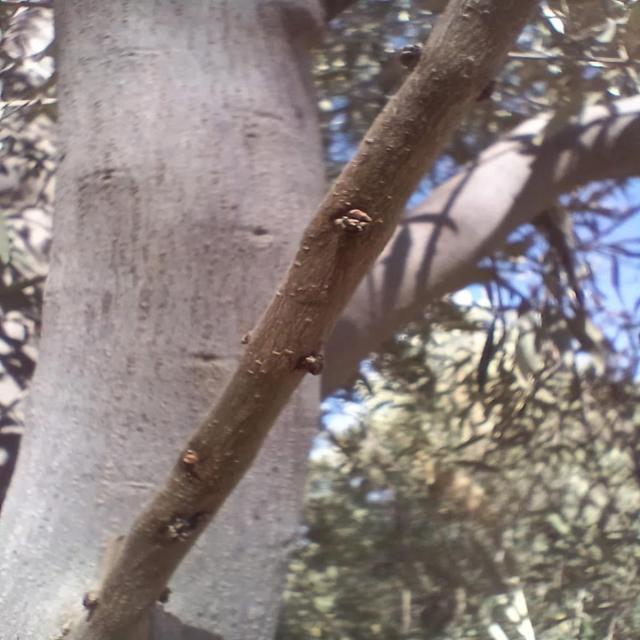Tuberculosis: (328, 208, 372, 238), (294, 352, 324, 376)
